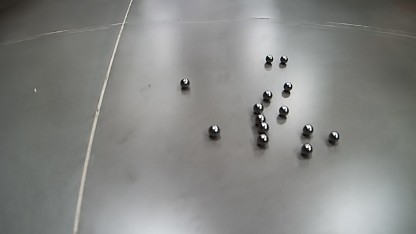ironball: (208, 125, 220, 138), (257, 133, 269, 146), (257, 121, 269, 133), (254, 114, 266, 126), (300, 143, 312, 155), (328, 131, 339, 143), (278, 105, 289, 116), (262, 90, 273, 101), (302, 124, 313, 135), (253, 103, 263, 114), (180, 78, 190, 88), (283, 81, 292, 91), (265, 54, 273, 63), (280, 55, 287, 64)
